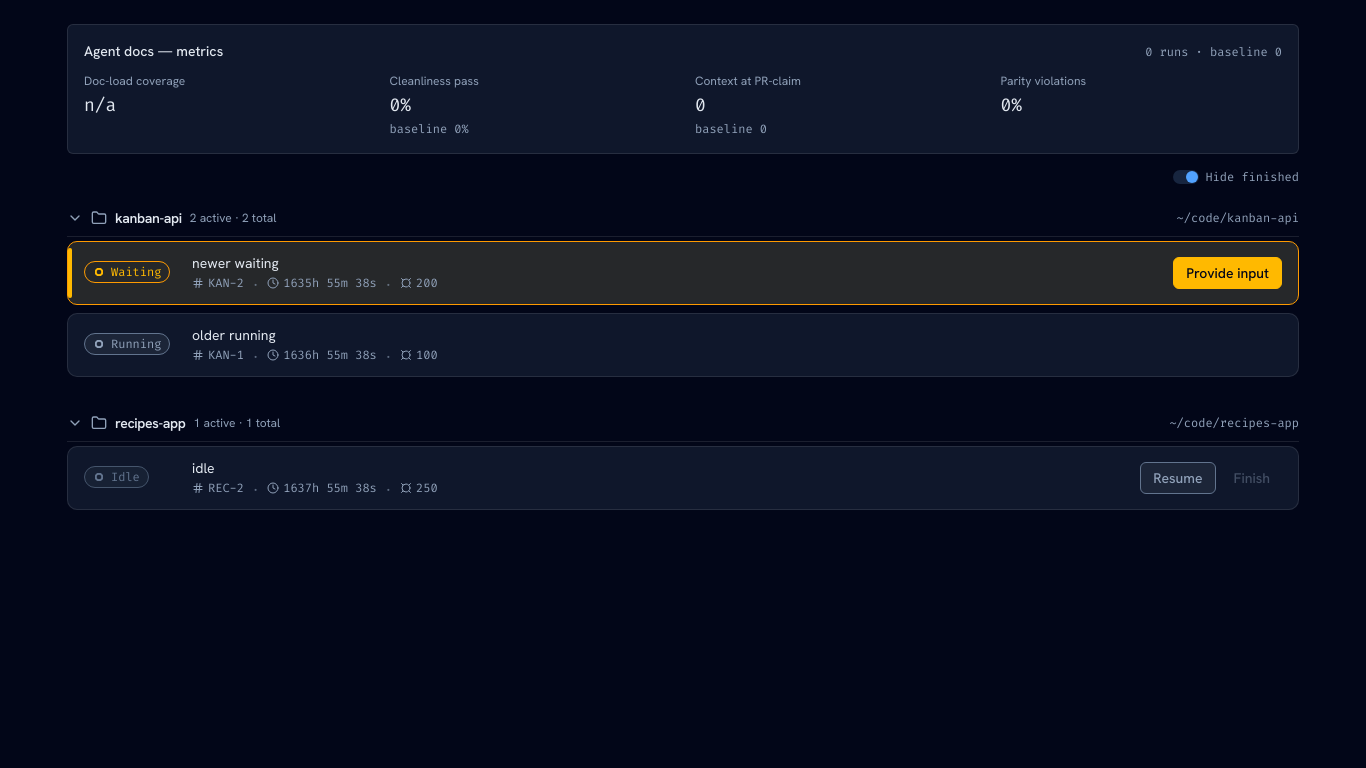
it: AgentsList › Hide finished toggle › hides finished agents again after toggling back on, persisting the change
Click the switch named "hide finished". click: (1186, 177)
box: [1173, 170, 1199, 184]
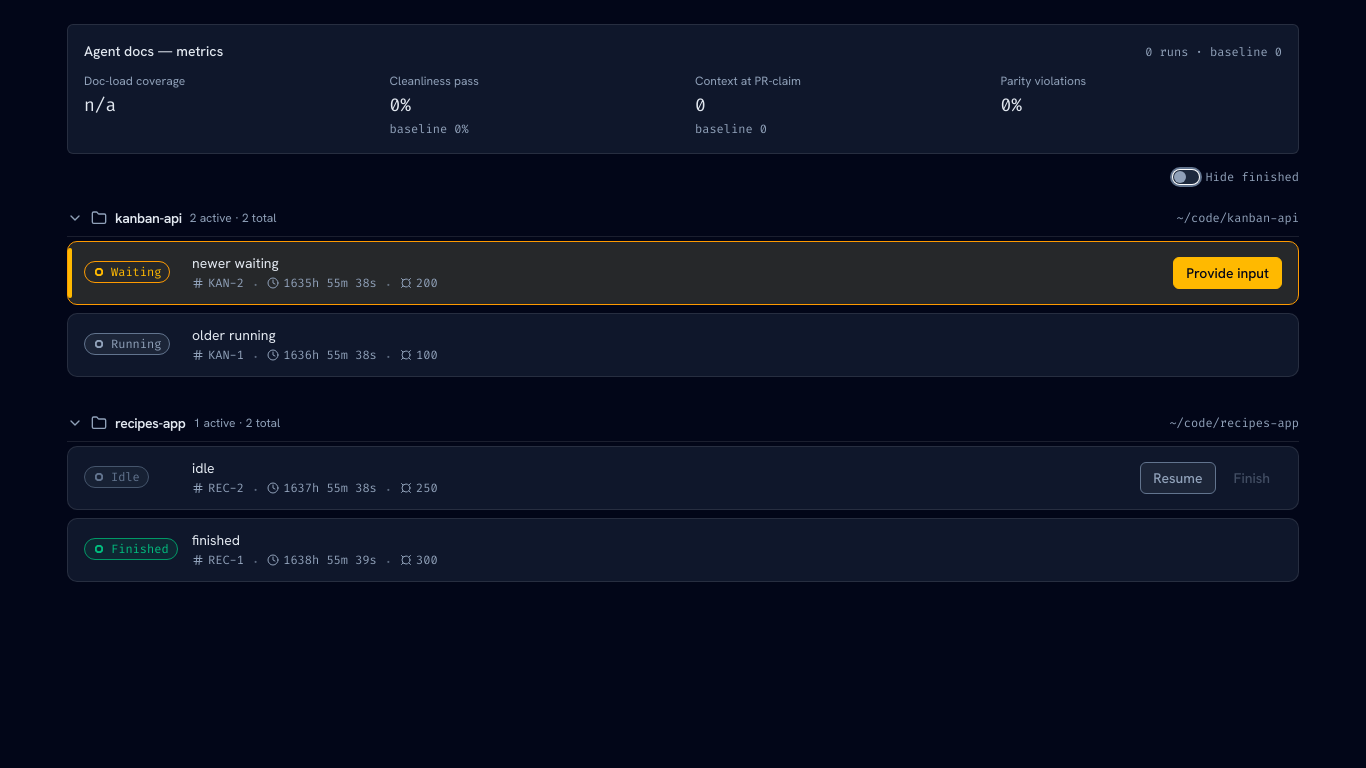
Expected: the button "Finished finished REC-1 1638h 55m 39s 300" is shown, [67, 518, 1299, 582]
Click the switch named "hide finished". click: (1186, 177)
box: [1173, 170, 1199, 184]
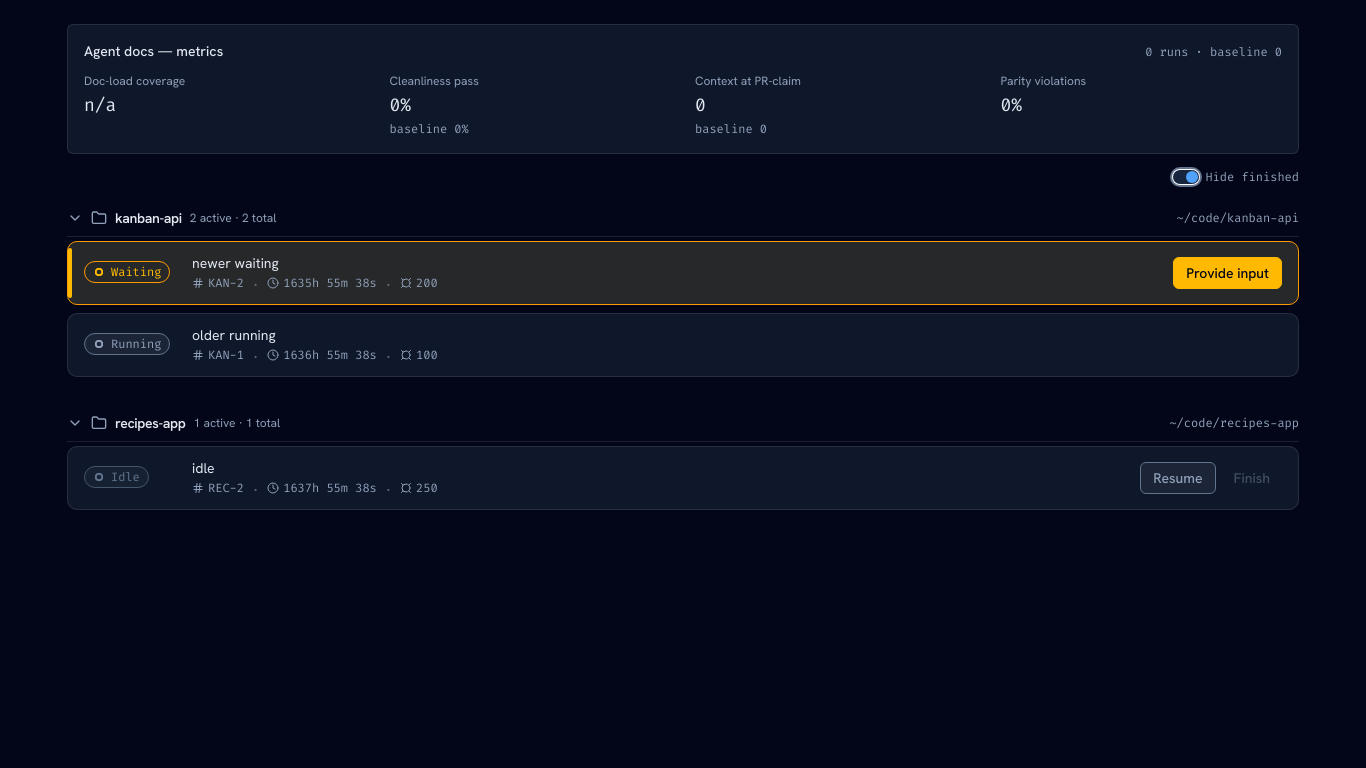
Expected: the button "REC-1" is gone
